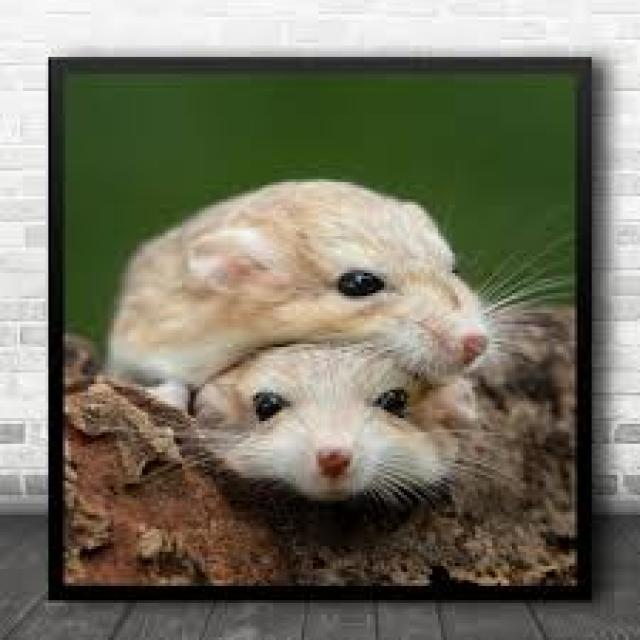Rat: (81, 161, 537, 581)
